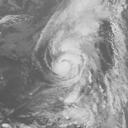cyclone: (34, 25, 99, 90)
